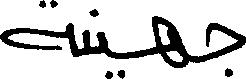X: (0, 0, 72, 59), (206, 18, 245, 78), (153, 11, 188, 72), (98, 8, 106, 78), (83, 7, 89, 59)
